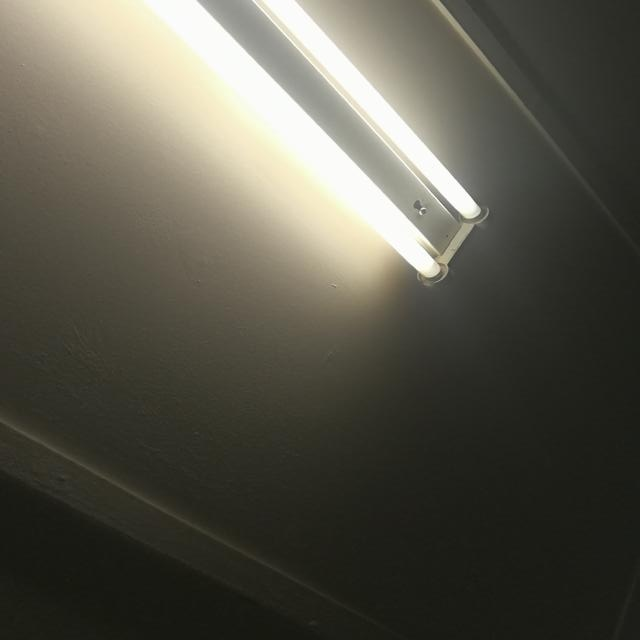fluorescent tube: (0, 0, 456, 297), (0, 0, 501, 219)
